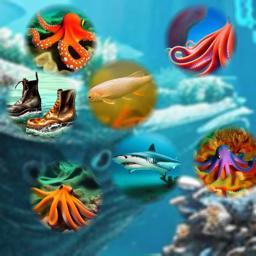not an animal: (7, 71, 79, 137)
